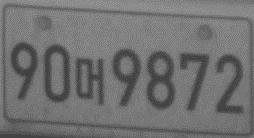0: (43, 44, 71, 103)
2: (215, 53, 244, 115)
7: (179, 51, 210, 112)
8: (145, 49, 175, 109)
9: (112, 47, 141, 107), (10, 42, 38, 101)
머: (75, 56, 105, 107)
